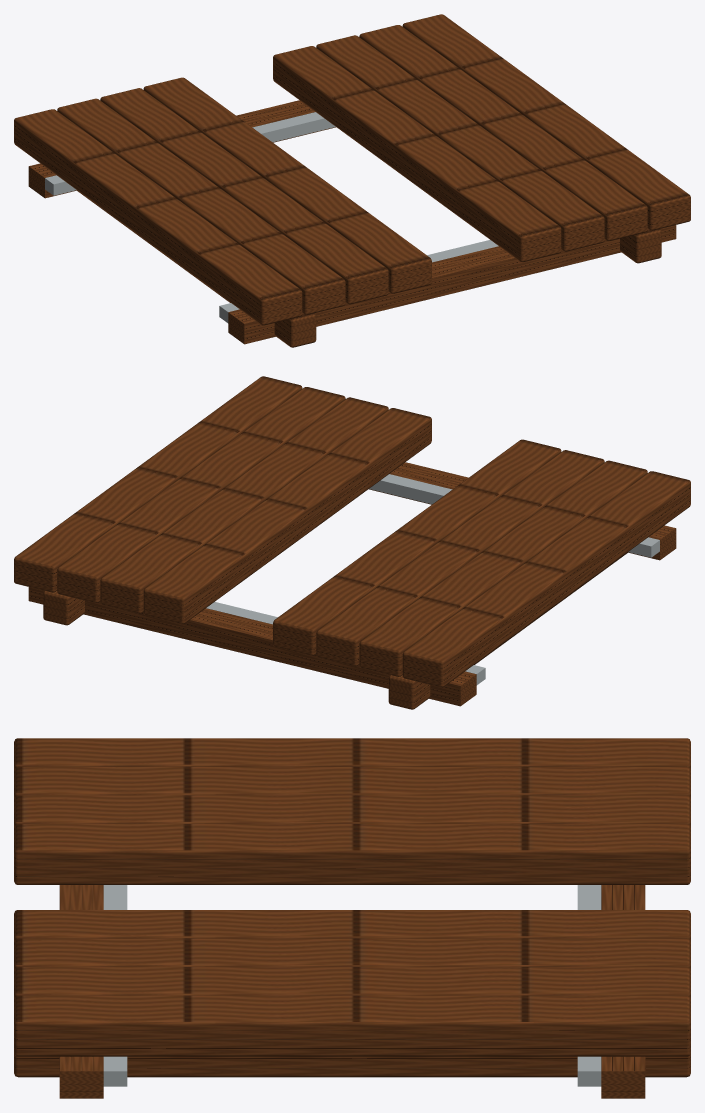
File: modular-survival-base-builder-floor-service-channel-re-7d84b3ed__24279.glb
3 views of the same model, one above another, from view 1: azimuth 30°, elevation 25°; view 2: azimuth 150°, elevation 25°; view 3: azimuth 270°, elevation 25° (orthographic). The views are drawn at different scales.
Visible parts, largest first — view 1: floor-service-channel-reinforced; view 2: floor-service-channel-reinforced; view 3: floor-service-channel-reinforced.
Part boxes in pixels (<box>): floor-service-channel-reinforced: <box>14,14,690,347</box>; floor-service-channel-reinforced: <box>14,376,690,709</box>; floor-service-channel-reinforced: <box>14,738,690,1098</box>.
Bounding box in the file's own units: 2 × 0.25 × 2.
2 materials, 1 textured.
